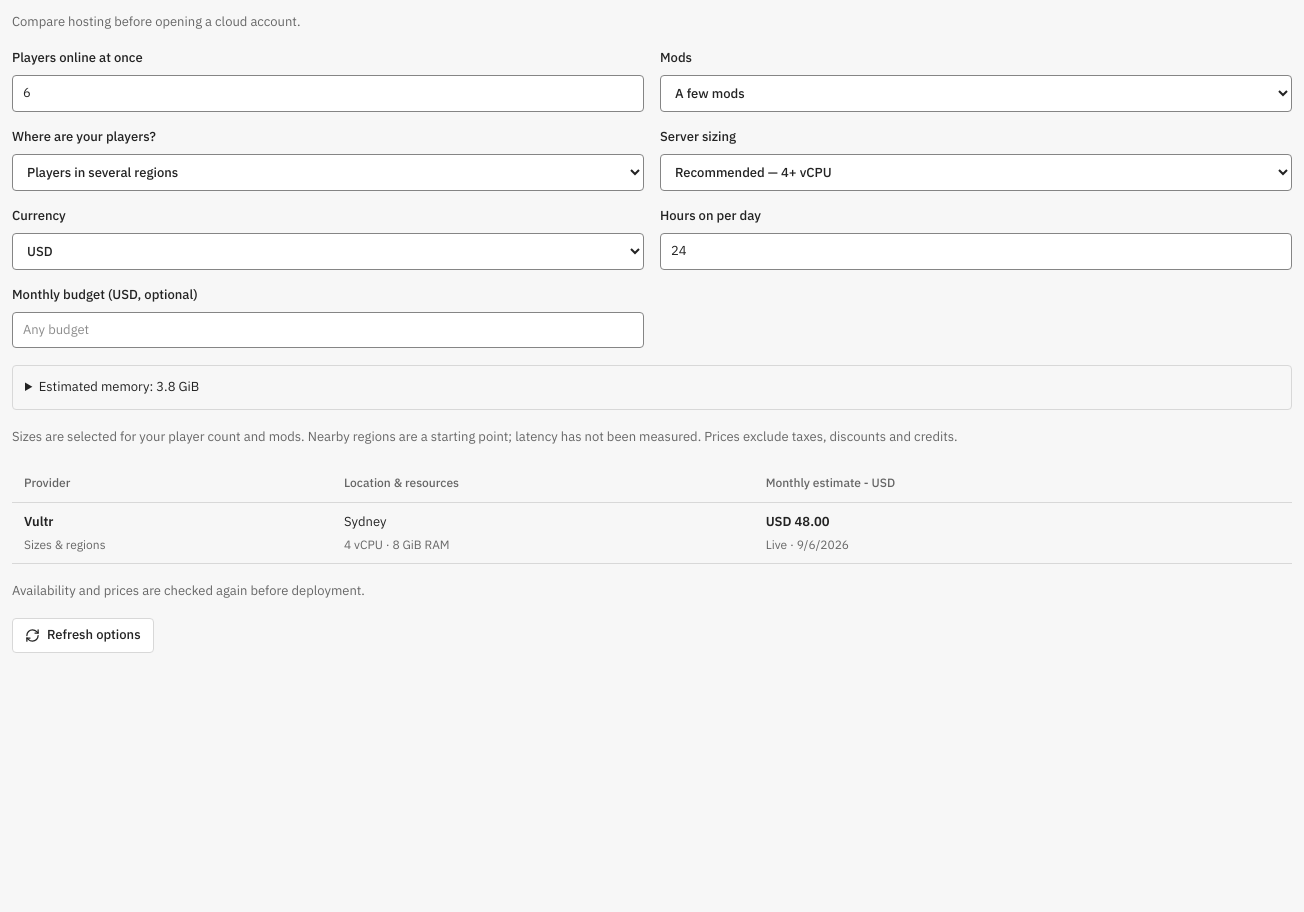
Test: loads options without querying cloud accounts or requesting expert fields
Expected: the text "Sydney" is shown, [344,513,386,530]
Select "Europe" in the dropdown labelled "Where are your players?" at (328, 172), box [12,154,644,191]
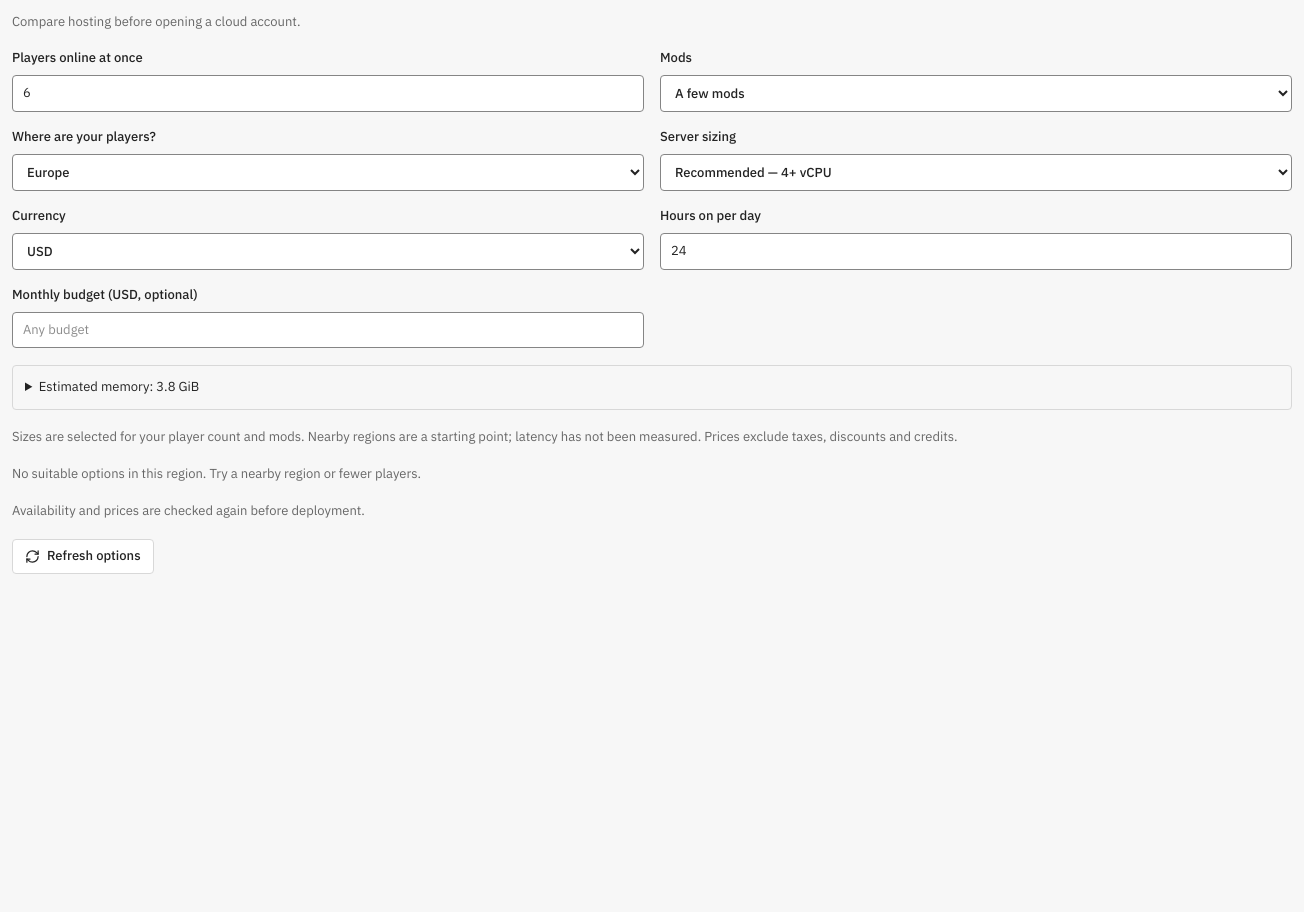
Now the text "No suitable options" is shown, box [12,465,421,482]
